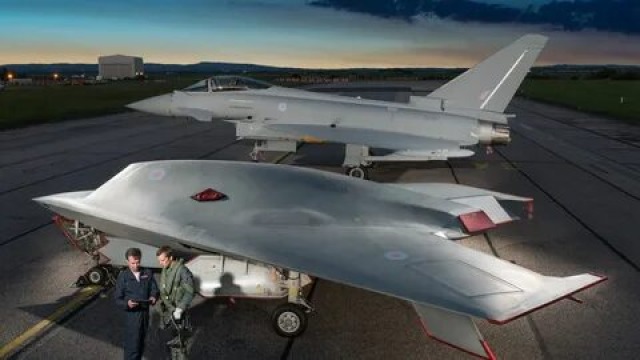airplane: (124, 32, 549, 180)
military drone: (31, 159, 608, 360)
